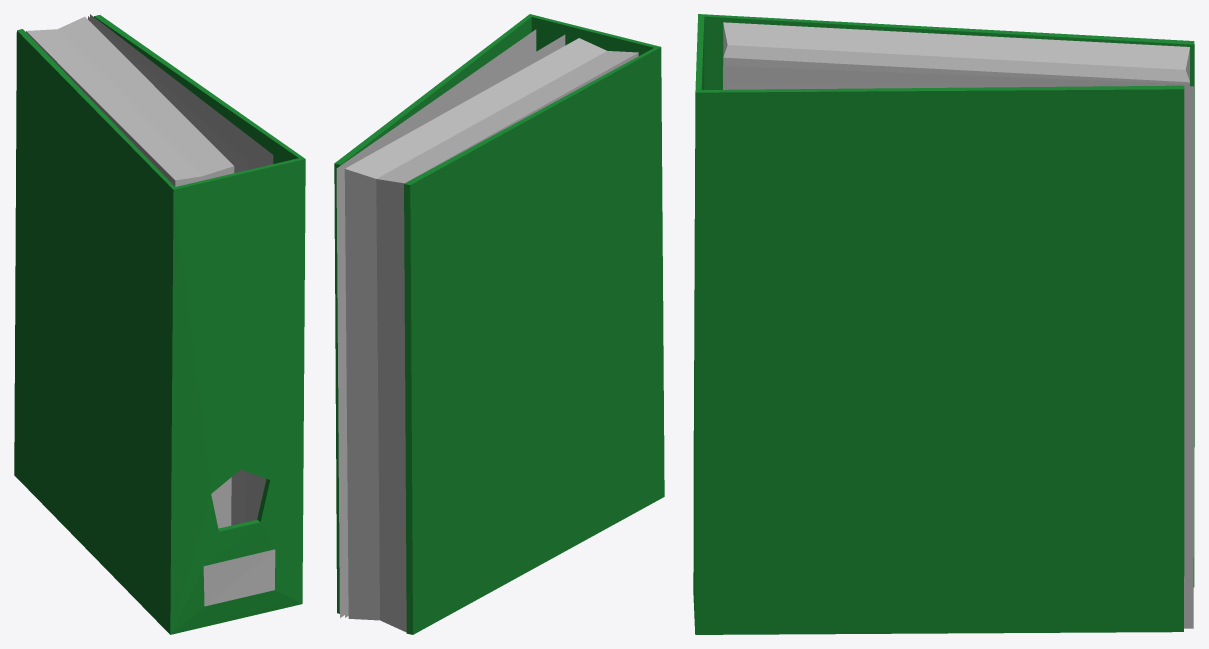
File: PaperFile_03.fbx
3 views of the same model, side by side, from view 1: azimuth 30°, elevation 25°; view 2: azimuth 150°, elevation 25°; view 3: azimuth 270°, elevation 25° (orthographic). The views are drawn at different scales.
Visible parts, largest first — view 1: PaperFile_03; view 2: PaperFile_03; view 3: PaperFile_03.
Part boxes in pixels (x1,y1,x2,y2): PaperFile_03: [14, 14, 305, 634]; PaperFile_03: [334, 14, 664, 634]; PaperFile_03: [693, 14, 1194, 634].
Bounding box in the file's own units: 0.1441 × 0.4567 × 0.3801.
